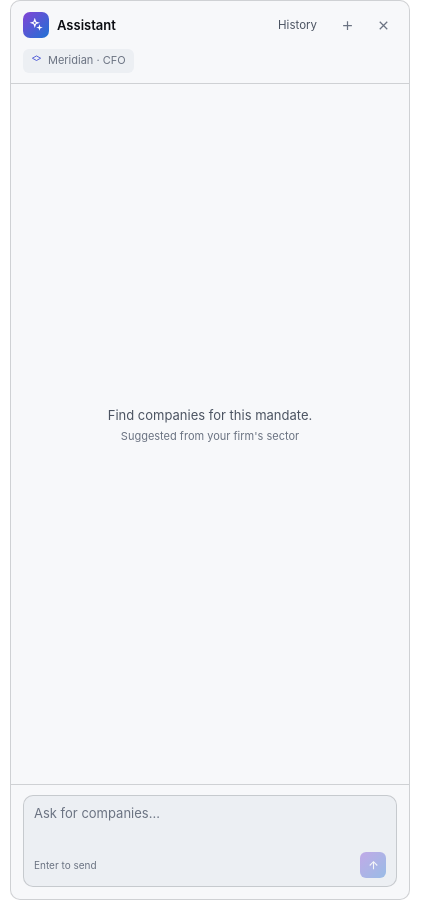
Test: a chat with the assistant › asks a follow-up in the same chat
This screenshot has width=427, height=900.
Type "Question t1" into the text box named "Ask the assistant". click: (210, 823)
box: [34,804,386,843]
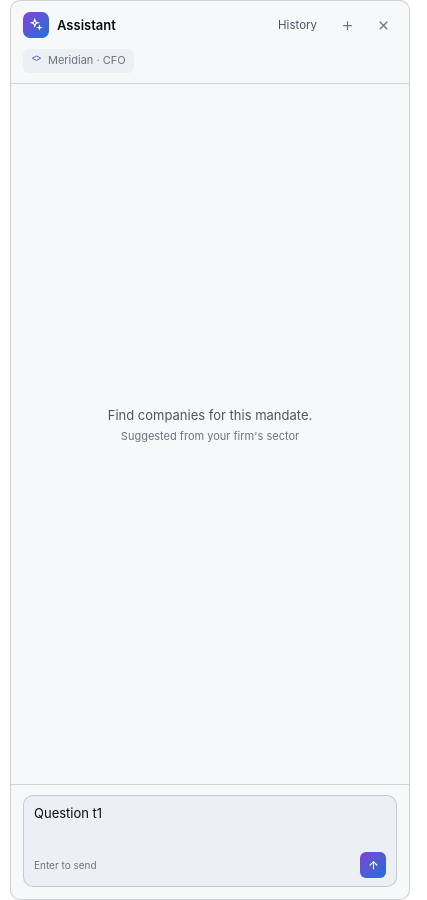
Click the button named "Send". click: (373, 865)
box: [360,852,386,878]
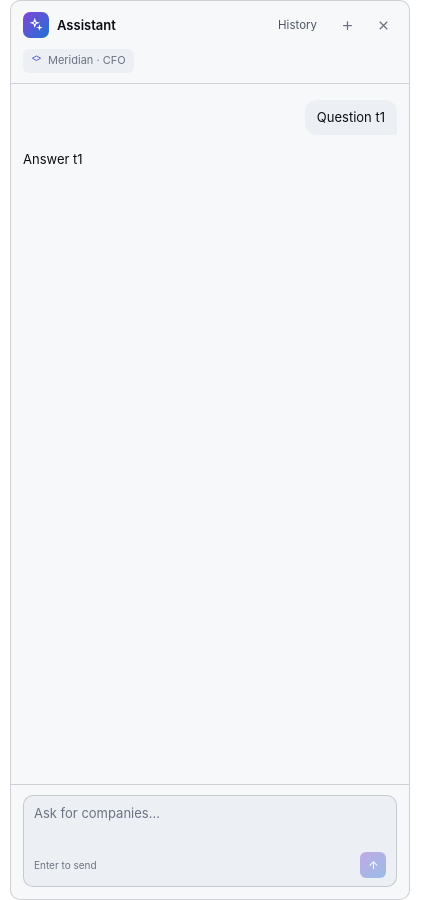
Expected: the text "Answer t1" is shown, [23,151,83,167]
Type "Question t2" into the text box named "Ask the assistant". click: (210, 823)
box: [34,804,386,843]
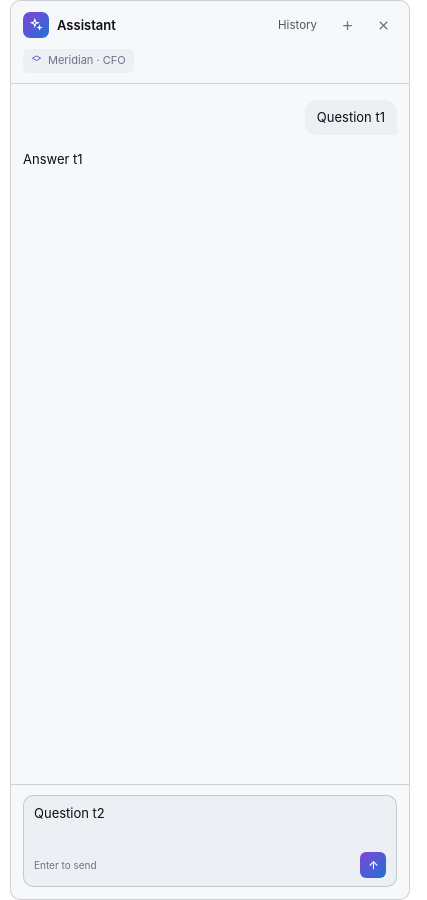
Click the button named "Send". click: (373, 865)
box: [360,852,386,878]
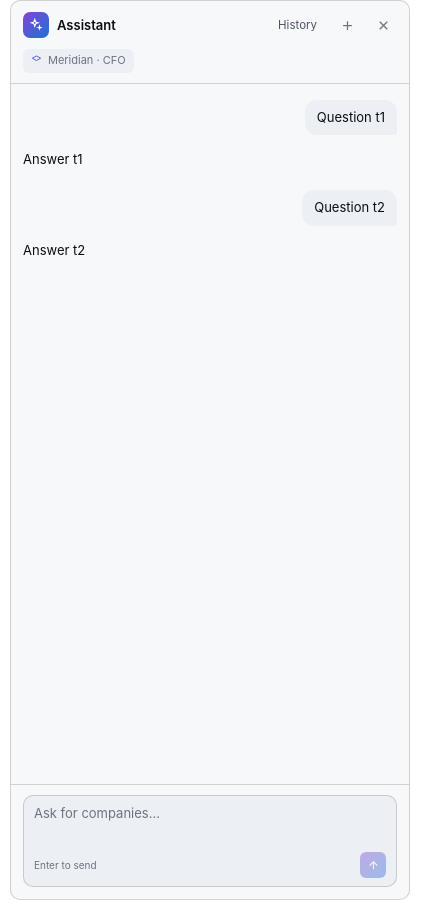
Expected: the text "Answer t2" is shown, [23,242,85,258]
